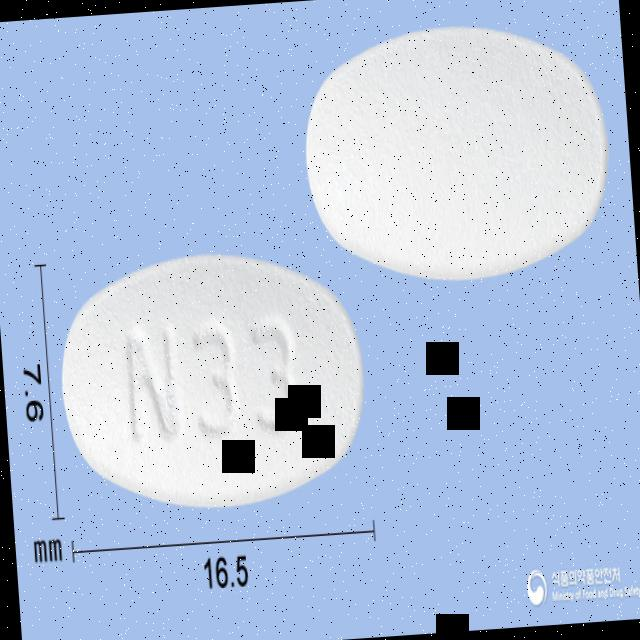Moxiclen Tab: (53, 242, 370, 518)
